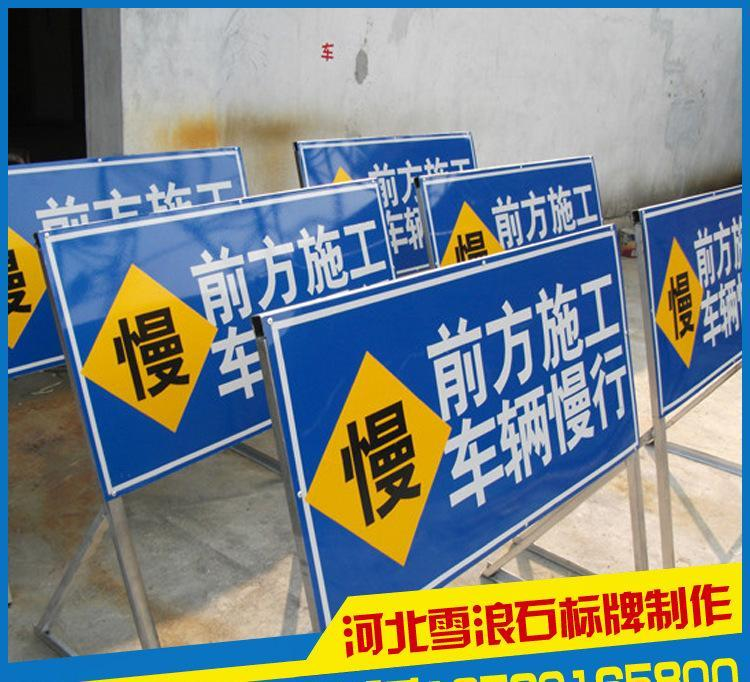sign: (314, 283, 627, 581), (45, 198, 394, 310), (417, 169, 611, 240)
